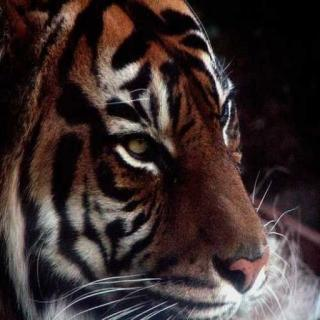Tiger: (0, 1, 281, 320)
